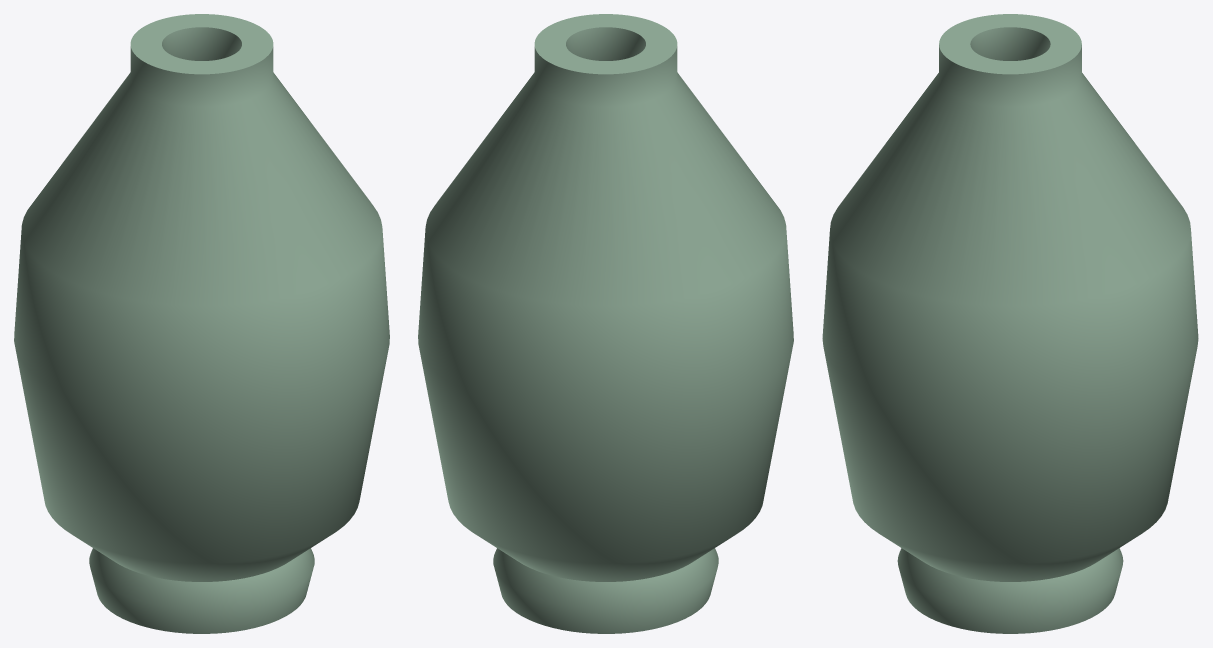
The model's file is ceramics-pottery-studio-narrow-neck-vase-553cdaea__29517.glb.
3 views of the same model, side by side, from view 1: azimuth 30°, elevation 25°; view 2: azimuth 150°, elevation 25°; view 3: azimuth 270°, elevation 25° (orthographic).
Parts seen in each view (by area): view 1: narrow-neck-vase; view 2: narrow-neck-vase; view 3: narrow-neck-vase.
Boxes of the visible parts, x1,y1,x2,y2 form: narrow-neck-vase: [14, 14, 389, 633]; narrow-neck-vase: [418, 14, 793, 633]; narrow-neck-vase: [822, 14, 1198, 633].
Size of the model in its own units: 0.3 by 0.48 by 0.3.
